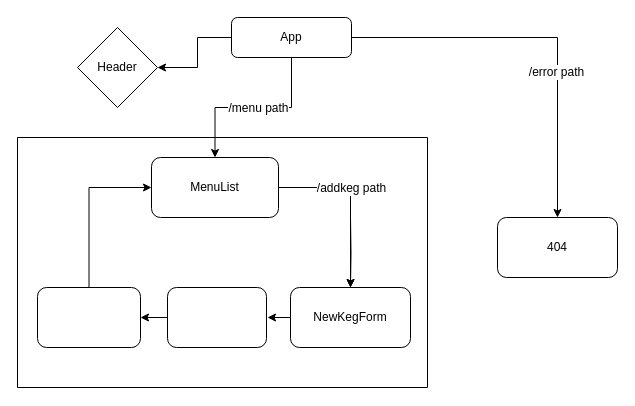
Some shapes in this 635 by 406 pixel diagram are drawn without their labels. Each missing label, with the centre of its shape:
Keg: the point at 216,317
KegList: the point at 88,317
